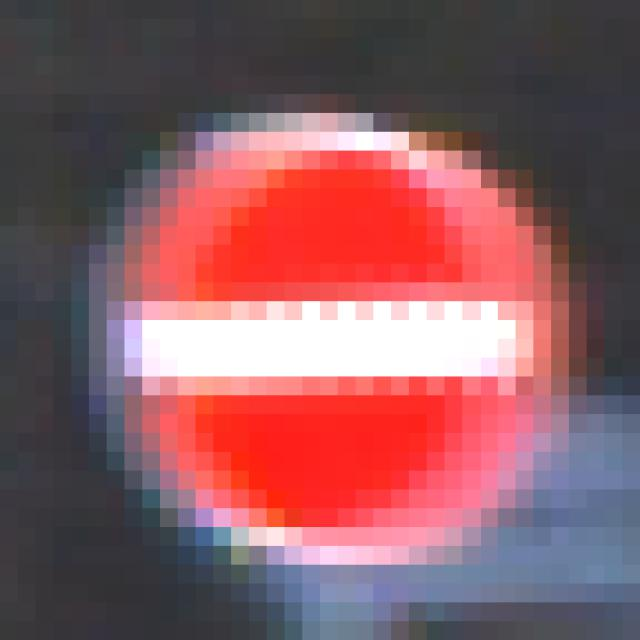No Entry: (108, 95, 552, 547)
